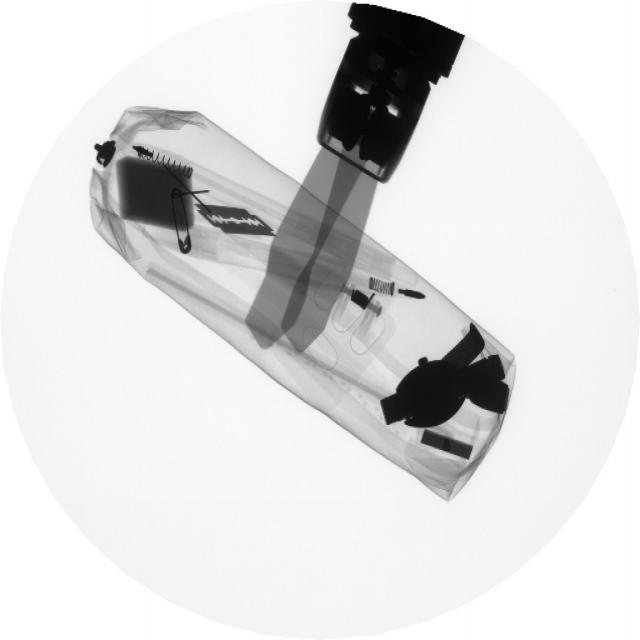BLADE: (188, 198, 282, 245)
